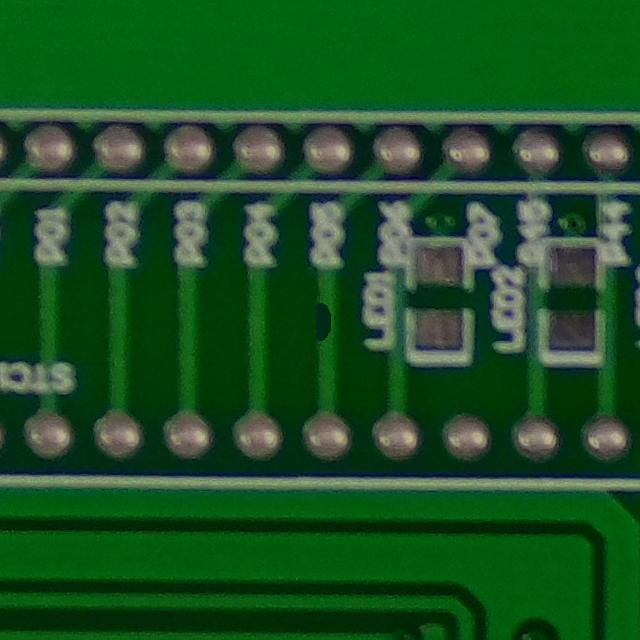mouse_bite: (295, 292, 346, 348)
